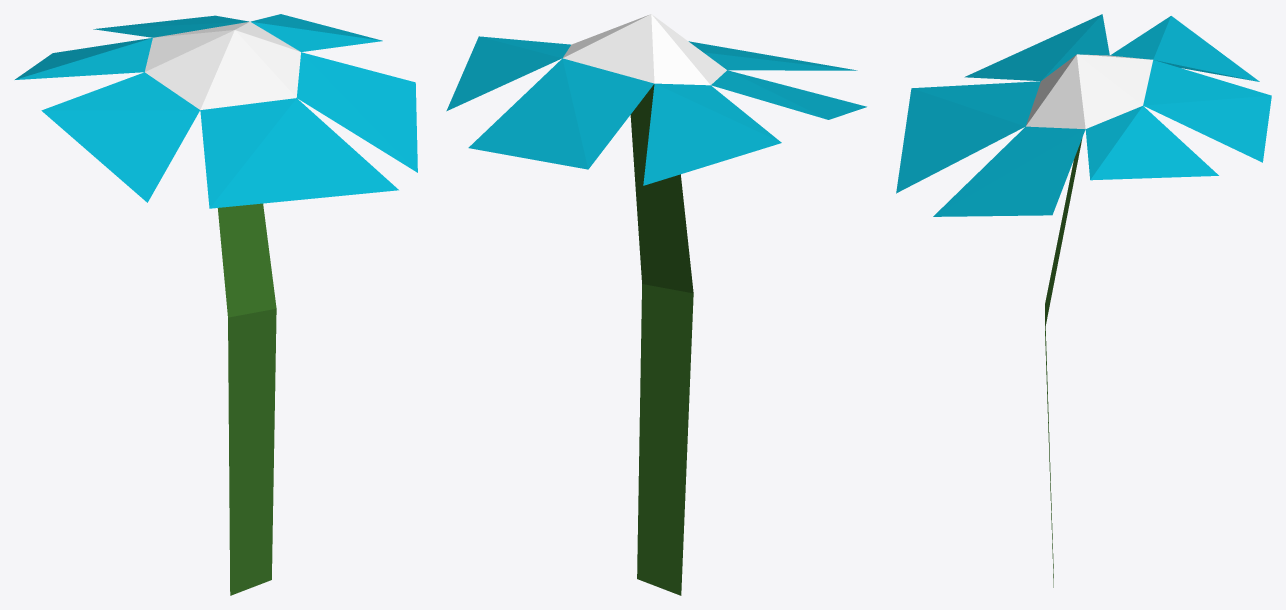
Rendered from flower.obj.
The picture shows the model from 3 angles, left to right: view 1: azimuth 30°, elevation 25°; view 2: azimuth 150°, elevation 25°; view 3: azimuth 270°, elevation 25°; orthographic projection. The views are drawn at different scales.
Size of the model in its own units: 0.1922 by 0.2915 by 0.1855.
